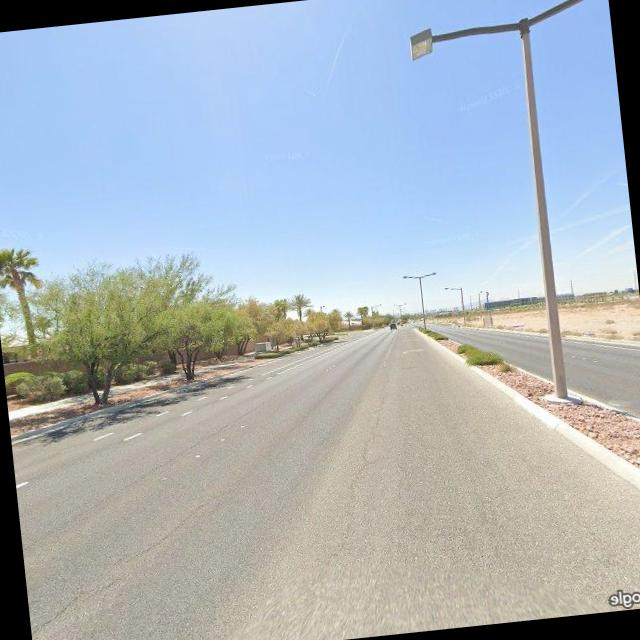crack: (28, 496, 230, 629)
